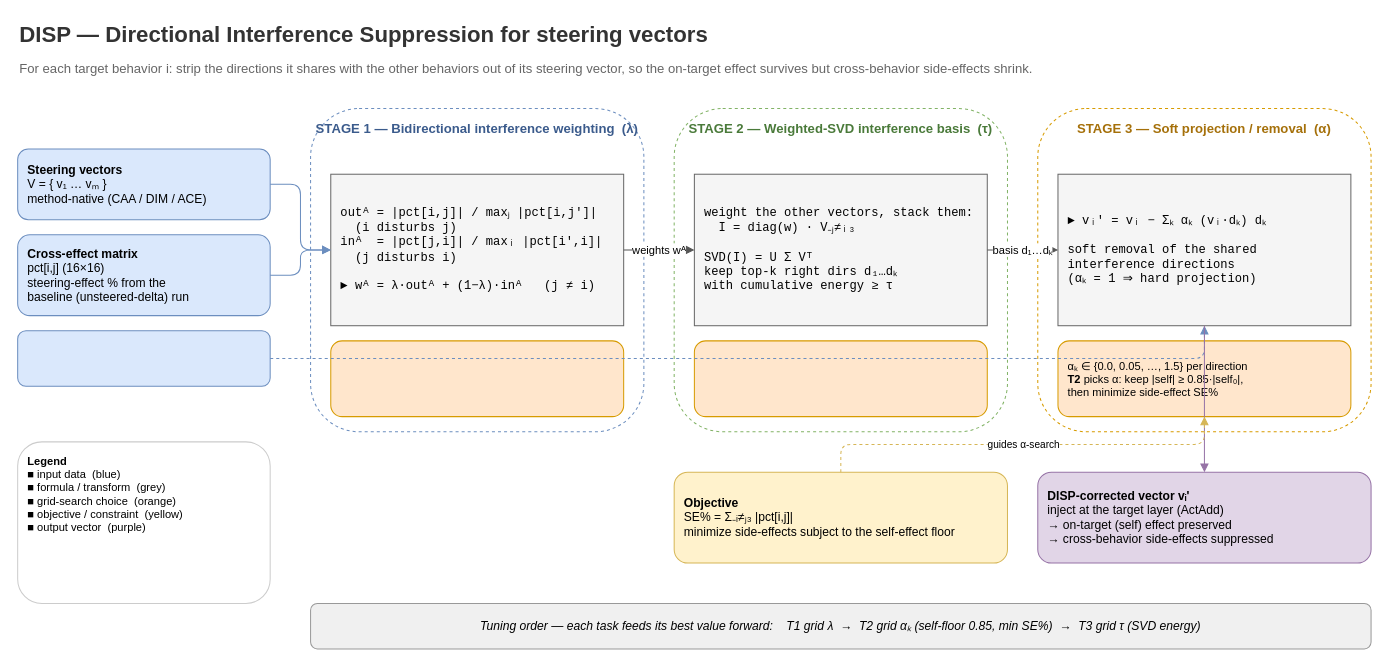
Some shapes in this 1389 by 667 pixel diagram are drawn without their labels. The centre of each missing label's shape, as x and y in pixels:
"Desired directions signs sᵢ (increase / decrease)" goes at (143,358).
"λ ∈ {0.5, 0.6, …, 1.0} T1 grid-searches λ (with α=1 hard, τ=0.90)" goes at (477,378).
"τ ∈ {0.50, …, 0.99}, default 0.90 T3 grid-searches τ (at best λ and α strategy)" goes at (840,378).
